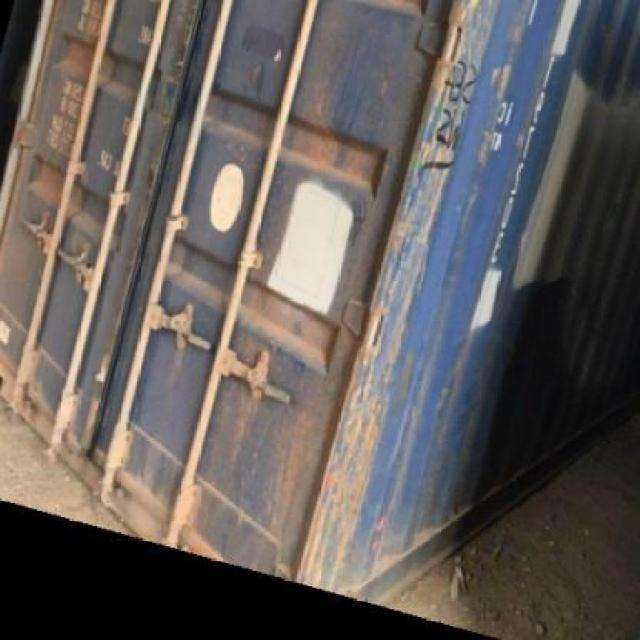Rust: (317, 396, 391, 590), (240, 276, 348, 370), (284, 110, 394, 192), (423, 32, 474, 174), (435, 336, 464, 432)
